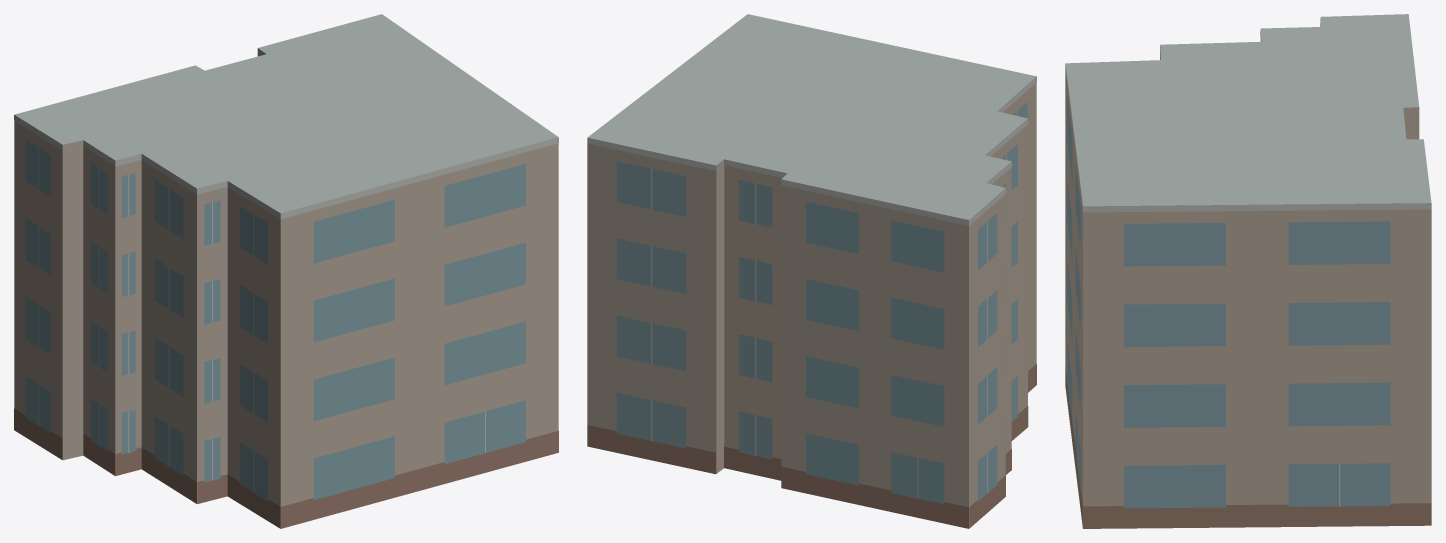
Rendered from survey-upis-32747343.glb.
The picture shows the model from 3 angles, left to right: view 1: azimuth 30°, elevation 25°; view 2: azimuth 150°, elevation 25°; view 3: azimuth 270°, elevation 25°; orthographic projection. The views are drawn at different scales.
Parts seen in each view (by area): view 1: survey-upis-32747343.tmp; view 2: survey-upis-32747343.tmp; view 3: survey-upis-32747343.tmp.
Boxes of the visible parts, x1,y1,x2,y2 form: survey-upis-32747343.tmp: [14, 14, 558, 528]; survey-upis-32747343.tmp: [587, 14, 1036, 528]; survey-upis-32747343.tmp: [1065, 14, 1431, 528].
Bounding box in the file's own units: 16.38 × 12.8 × 13.18.
